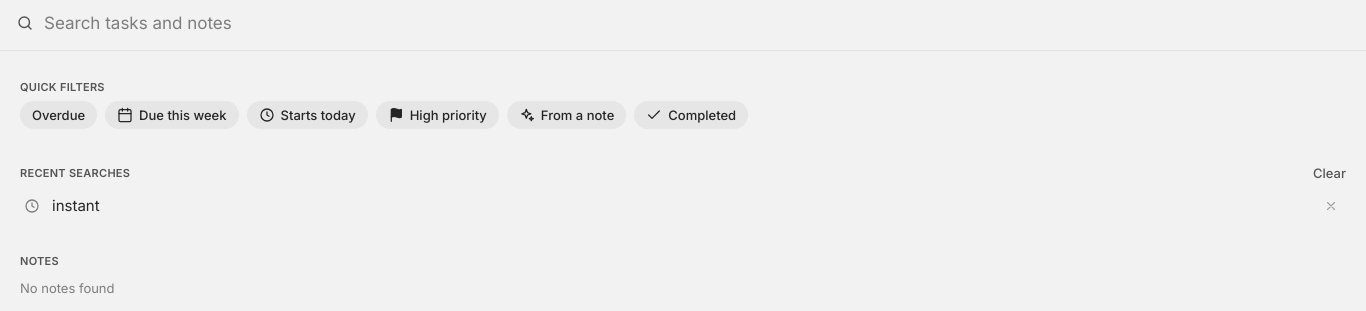
Test case: SearchPanel & SearchPopup › hides the Notes section for a quick filter
Click the button "Overdue". click: (59, 115)
box: 20,101 -> 97,129
Wait 450 ms
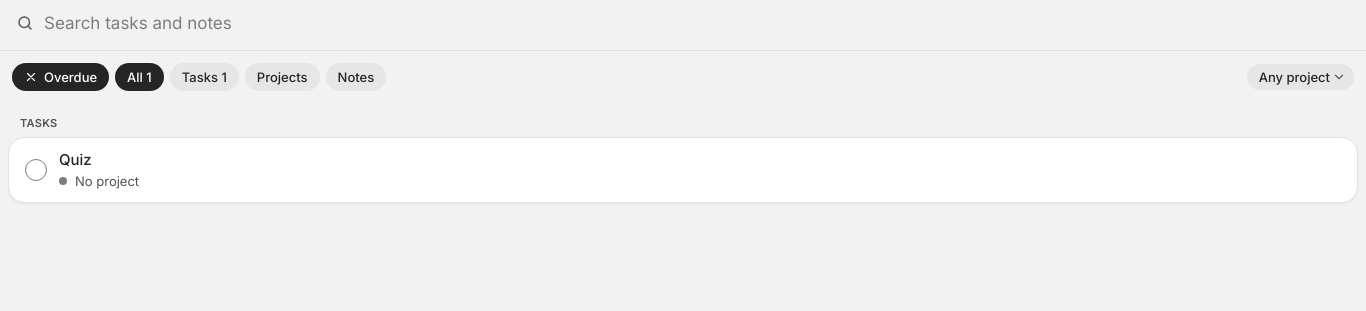
Check: the text "Quiz" is shown, box 59,150 -> 92,169
Check: the text "No notes found" is gone
